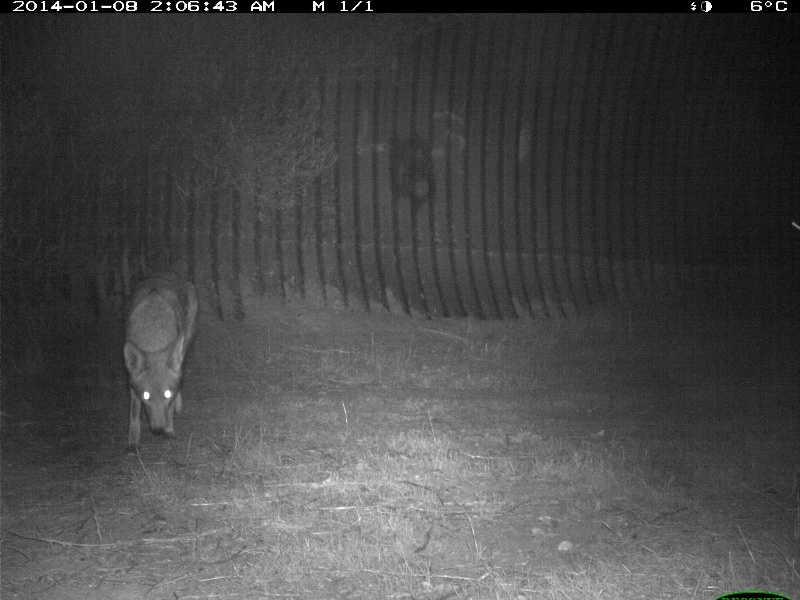coyote: (118, 273, 203, 451)
